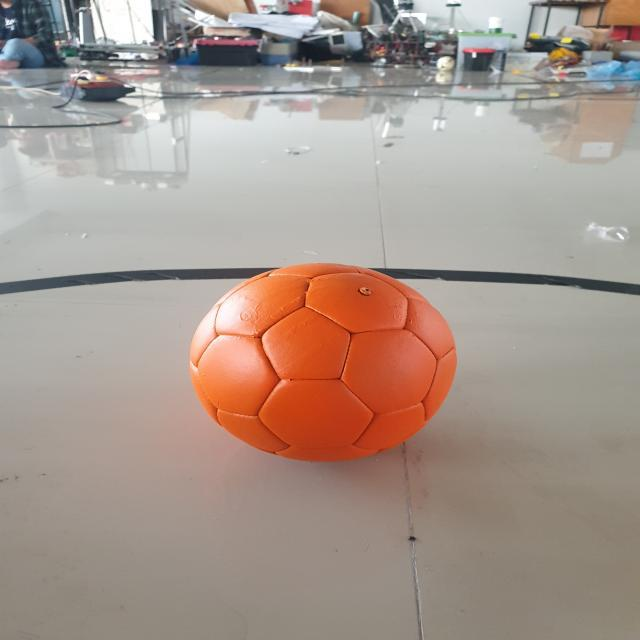bola: (184, 256, 468, 471)
